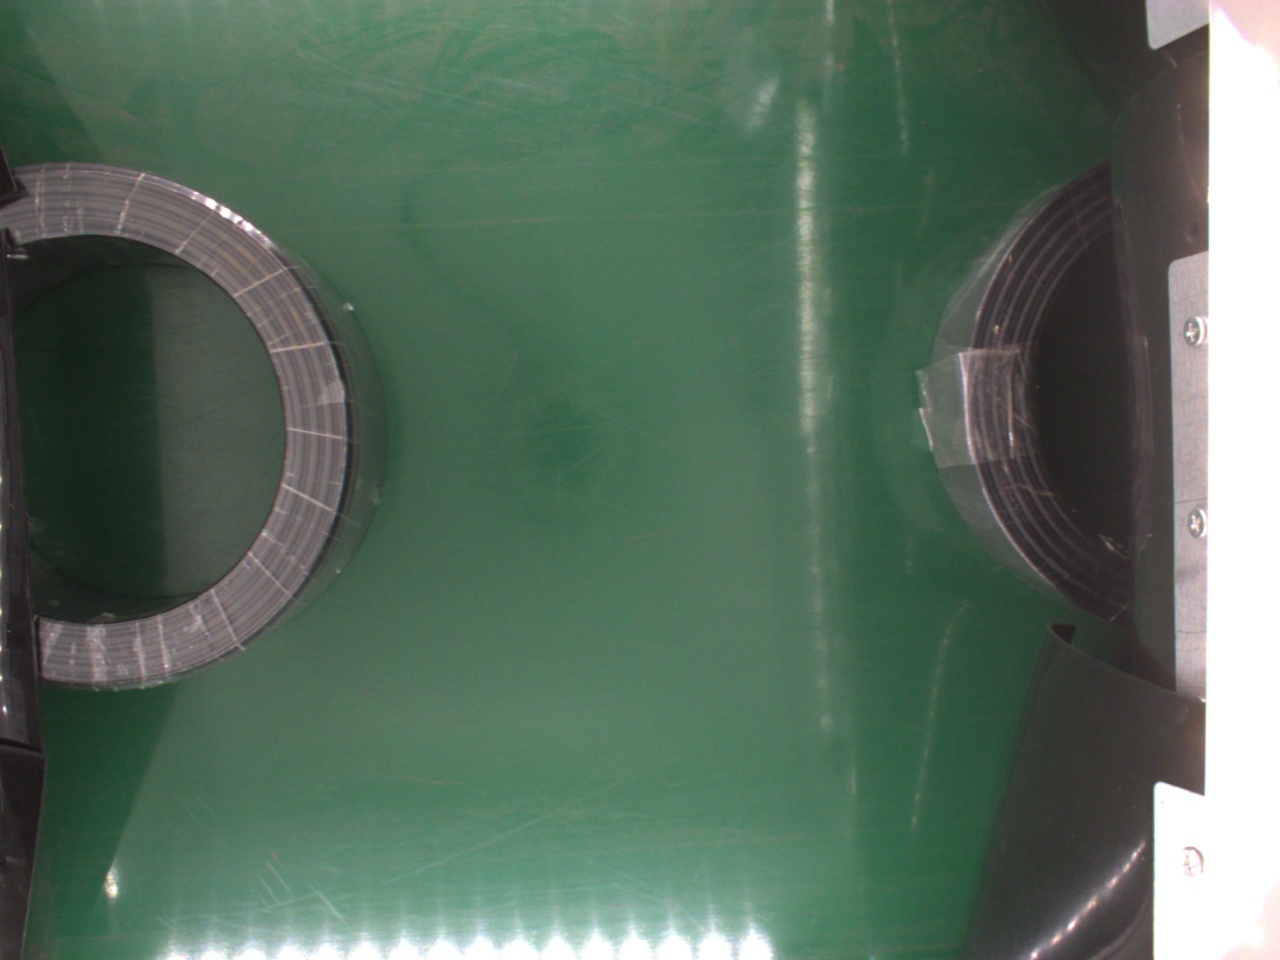black: (16, 162, 382, 686), (928, 158, 1149, 621)
